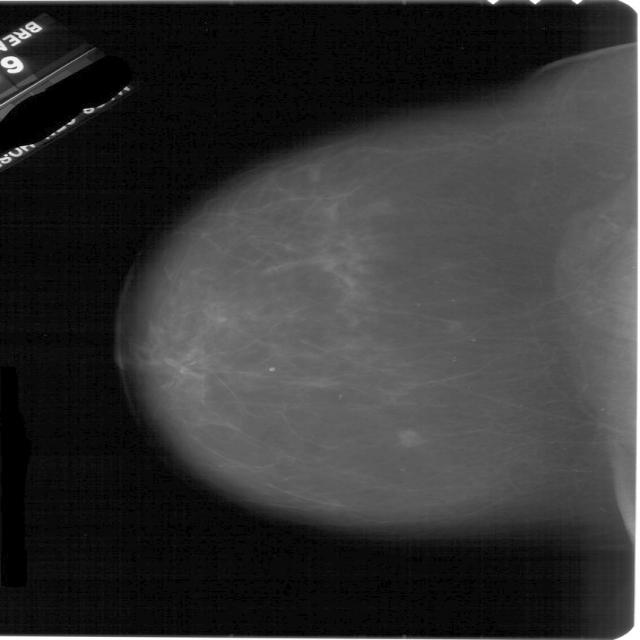tumour: (396, 427, 423, 447)
